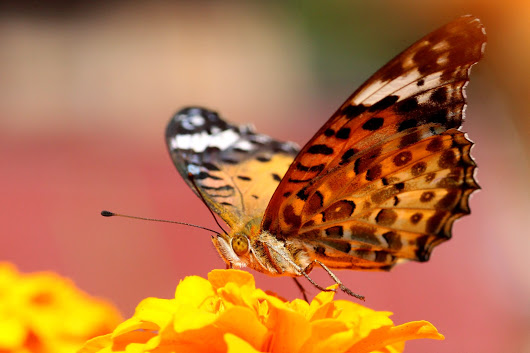Argyreus hyperbius: (98, 9, 488, 302)
butterfly: (100, 11, 490, 304)
